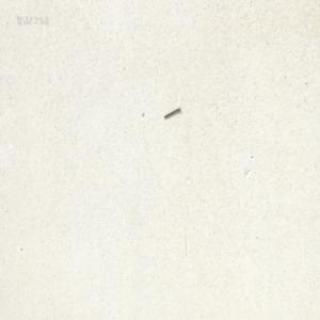Bolttrack_idkeyframe: (162, 104, 179, 116)
